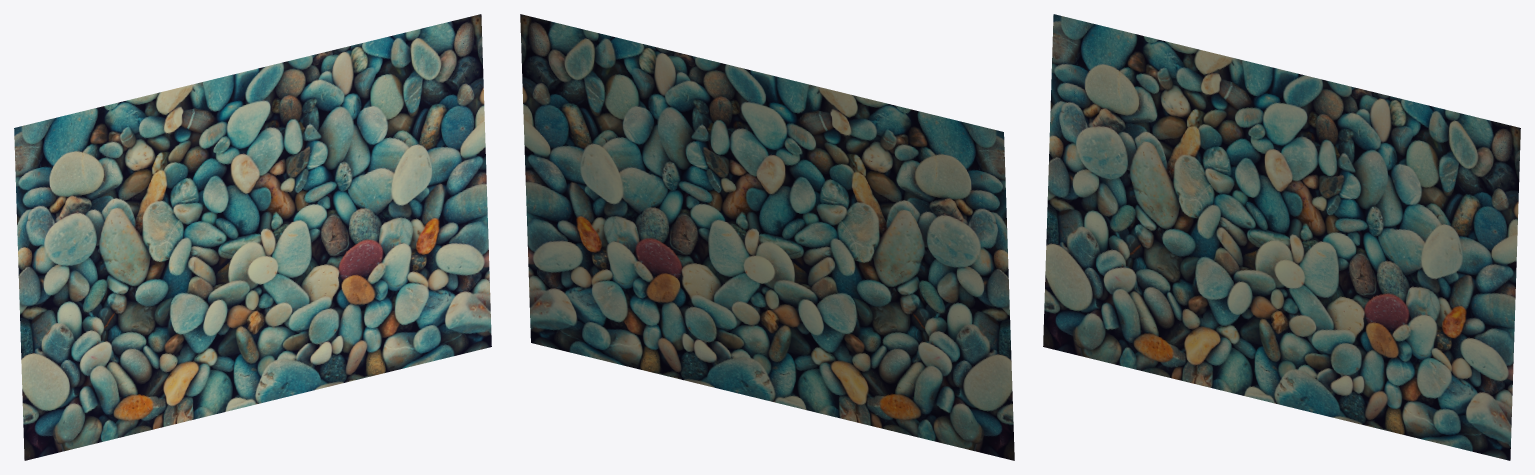
3 views of the same model, side by side, from view 1: azimuth 30°, elevation 25°; view 2: azimuth 150°, elevation 25°; view 3: azimuth 330°, elevation 25° (orthographic). The views are drawn at different scales.
Visible parts, largest first — view 1: 20220113_163153; view 2: 20220113_163153; view 3: 20220113_163153.
Part boxes in pixels (x1,y1,x2,y2): 20220113_163153: [14, 14, 491, 460]; 20220113_163153: [520, 14, 1014, 460]; 20220113_163153: [1043, 14, 1520, 460].
Bounding box in the file's own units: 1.5 × 0.9983 × 0.0579.
Materials: 1 (1 with a texture image).
